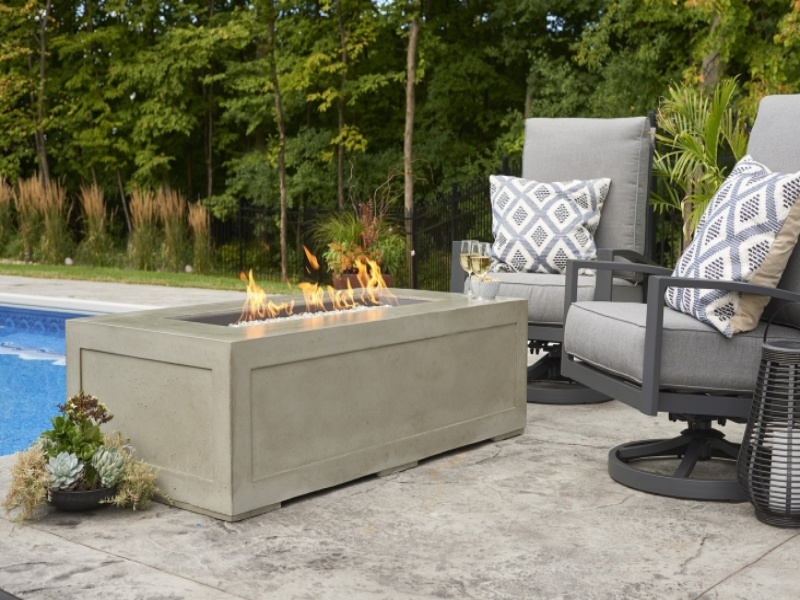fire: (237, 245, 383, 314)
